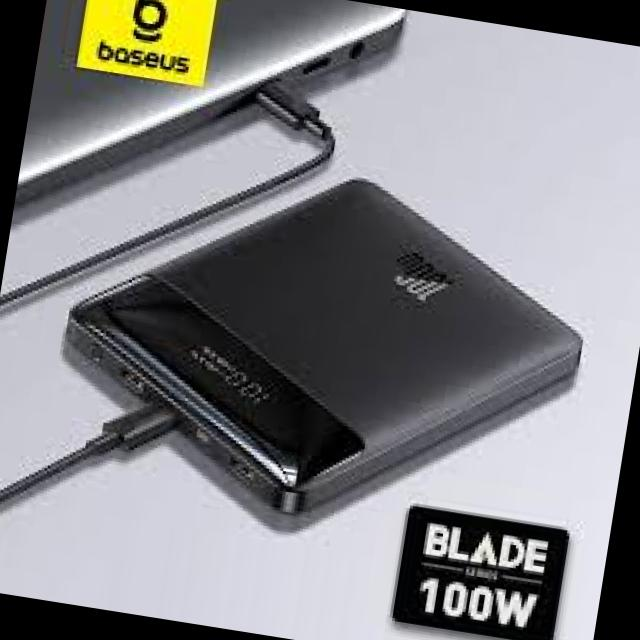portable-charger: (33, 133, 605, 572)
